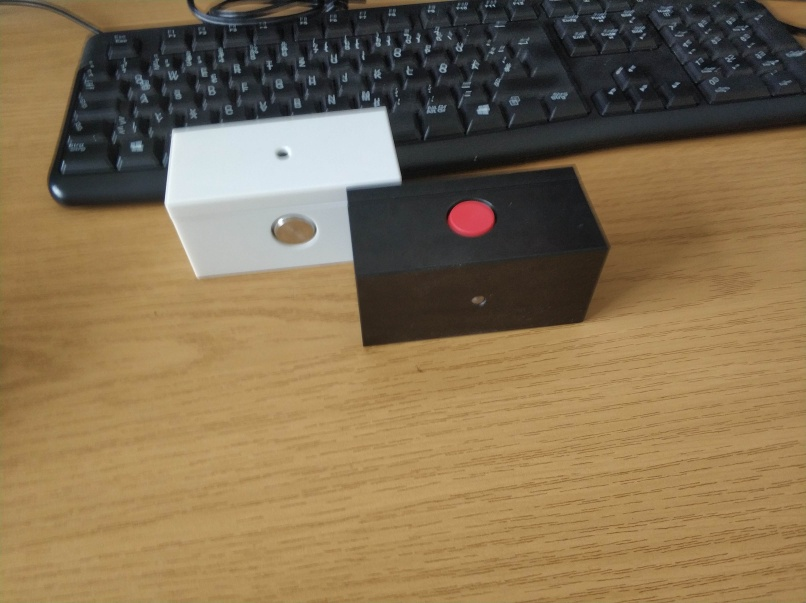black+black+red: (344, 164, 613, 350)
white+white+silver: (161, 105, 403, 282)
